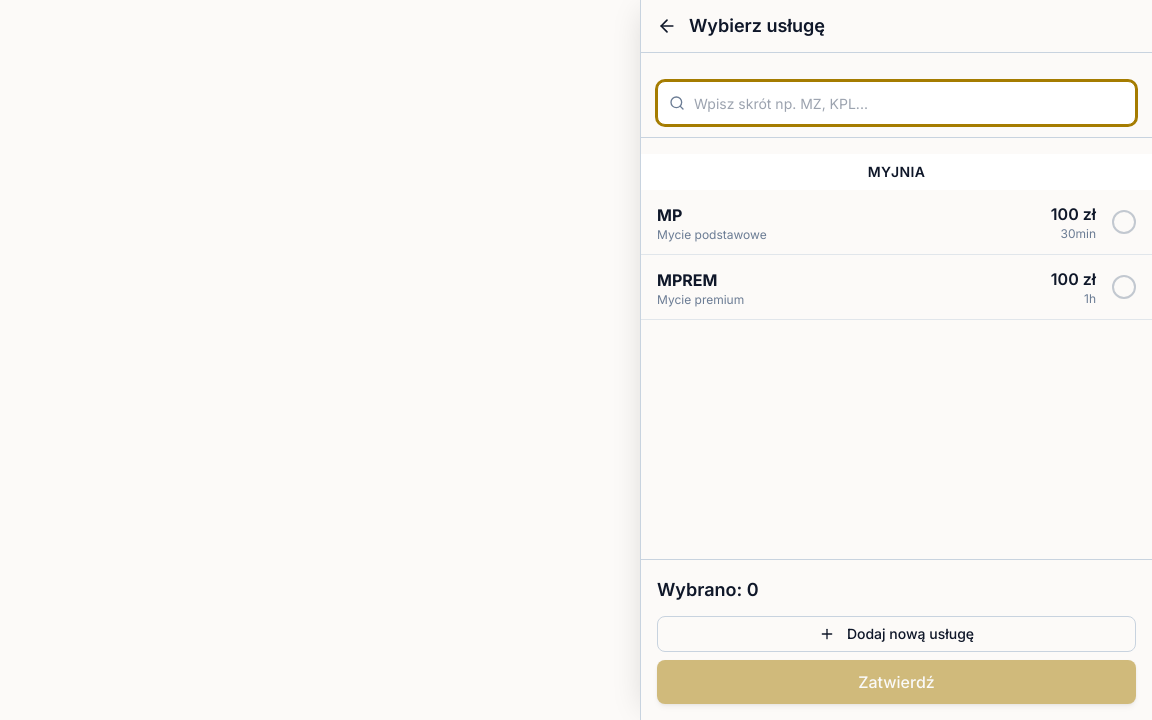
ServiceSelectionDrawer › Service selection › selects a service when clicked
Click the text "Mycie podstawowe" at [712, 234], box [657, 226, 767, 242]
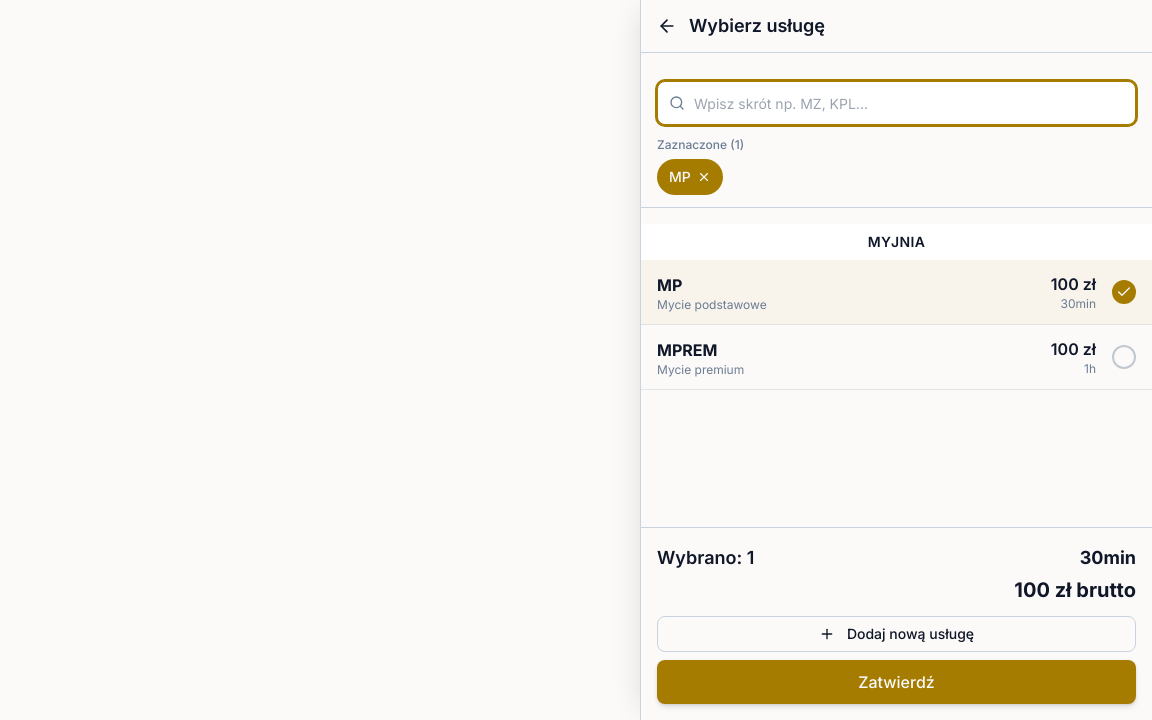
Expected: the button "Zatwierdź" is enabled, [657, 660, 1136, 704]
